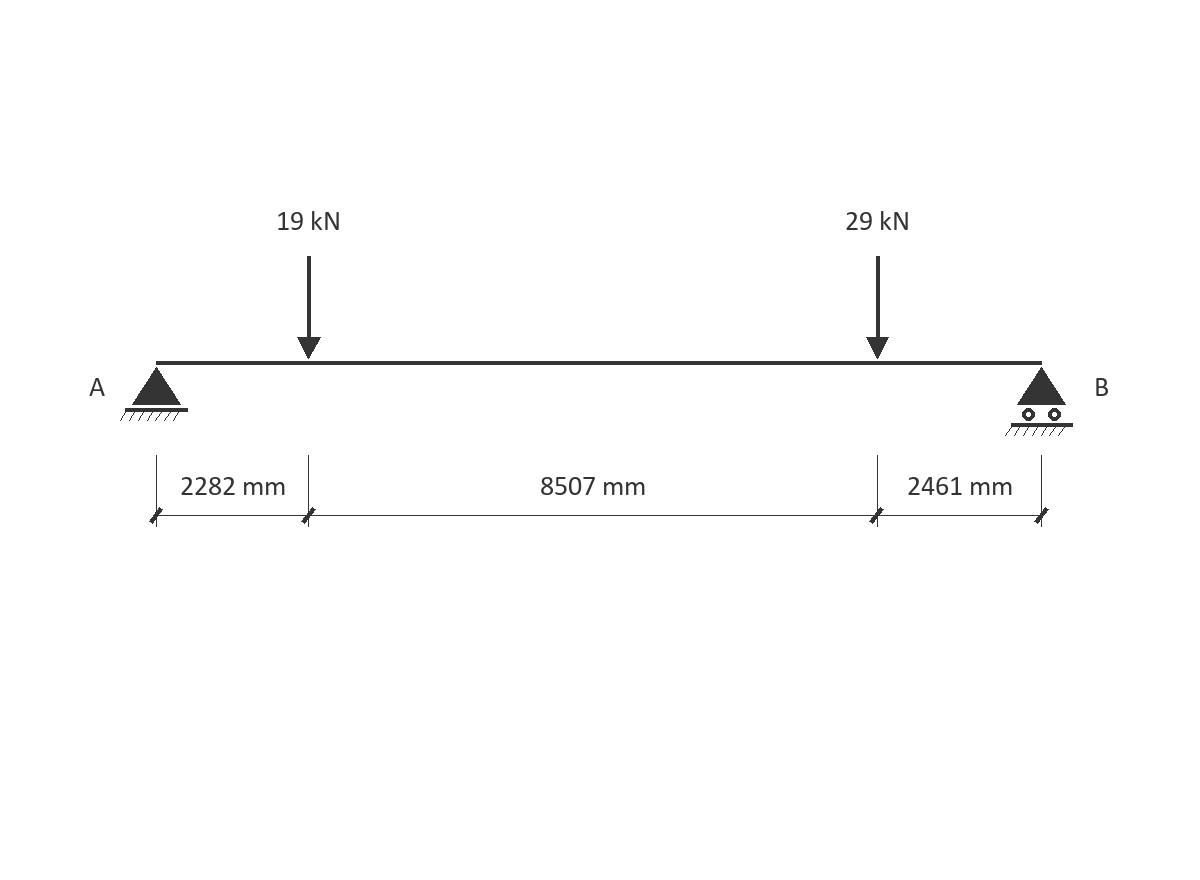pin_support: (120, 367, 188, 421)
point_load: (297, 256, 321, 359), (866, 256, 889, 359)
roller_support: (1005, 367, 1073, 436)
